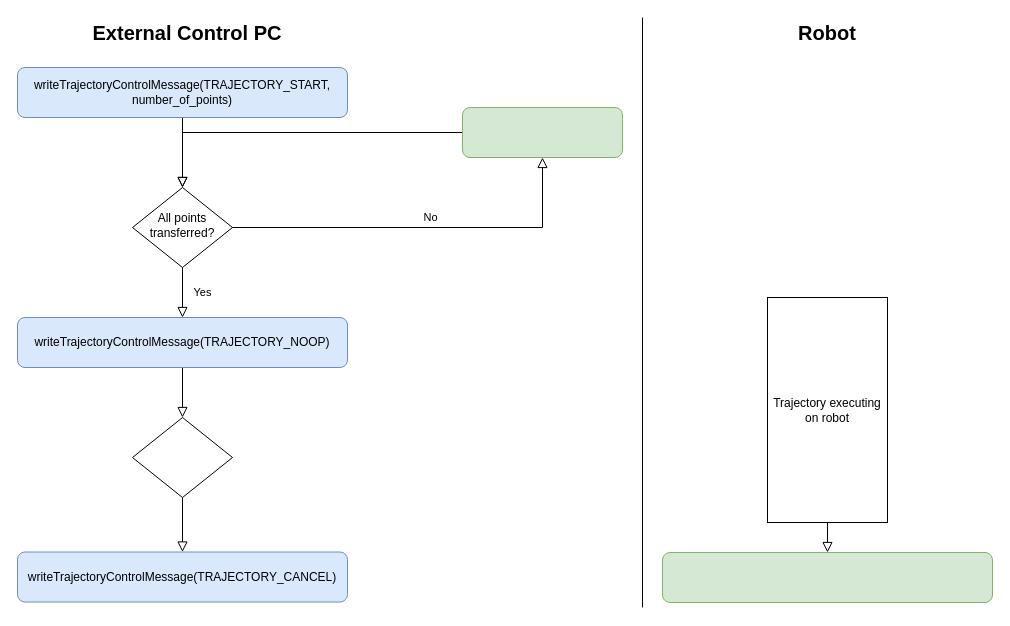
This 1010x626 diagram has some shape labels left out. The shapes that lost their labels are listed below. From the top down, each one's box as (x1, y1, x2, y2) in pixels, then its label:
(462, 106, 622, 158): writeTrajectoryPoint() / writeTrajectorySplinePoint()
(132, 416, 232, 498): Cancel requested?
(662, 552, 992, 602): send trajectory result
